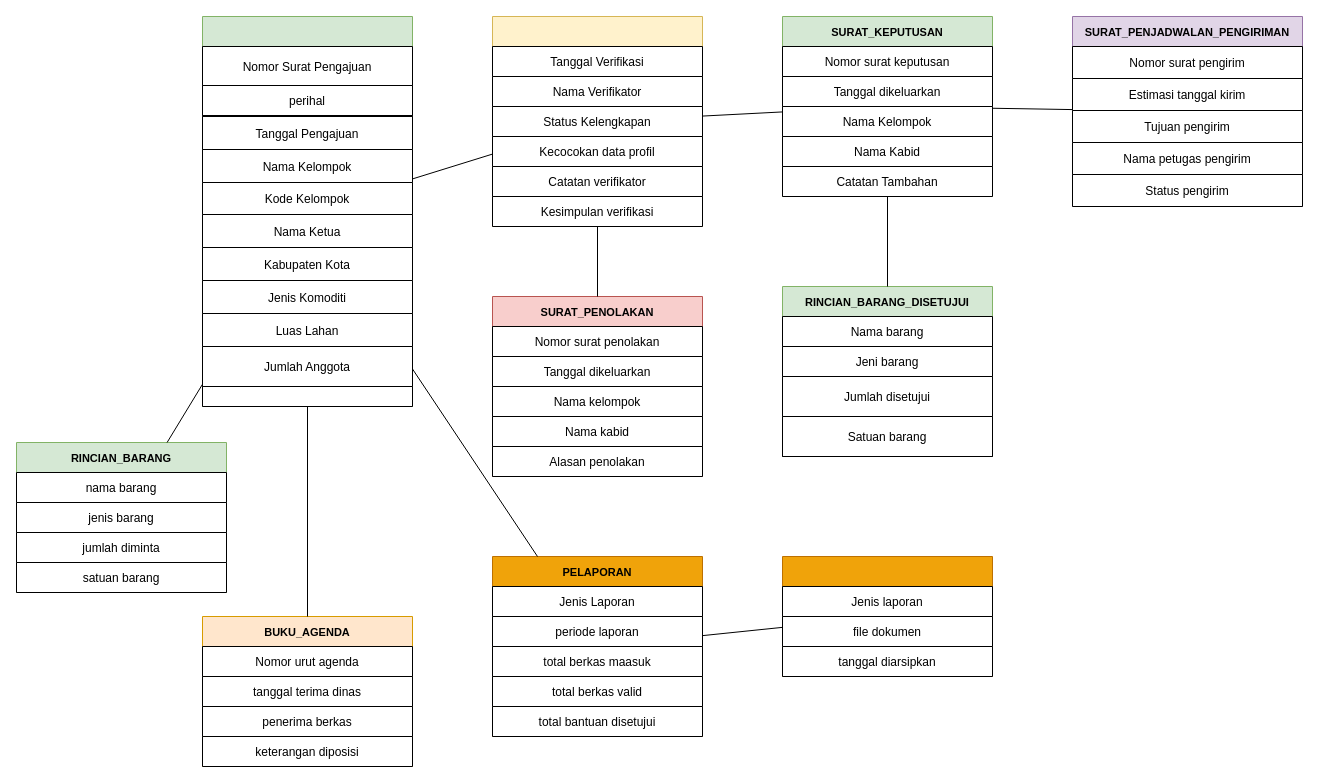
Image size: 1319x783. Some labels were removed from this diagram. The shapes that lost their labels are listed below. From the top down, each one's box as (x1, y1, x2, y2) in pixels, then its label:
(492, 16, 702, 226): LAPORAN_HASIL_VERIFIKASI
(202, 16, 412, 406): DATA PENGAJUAN
(782, 556, 992, 676): ARSIP_LAPORAN
